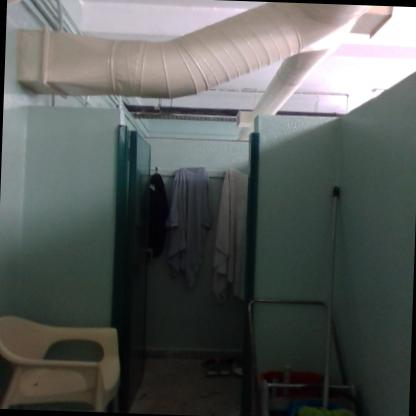open: (102, 97, 274, 388)
